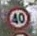limite 40: (5, 6, 31, 29)
